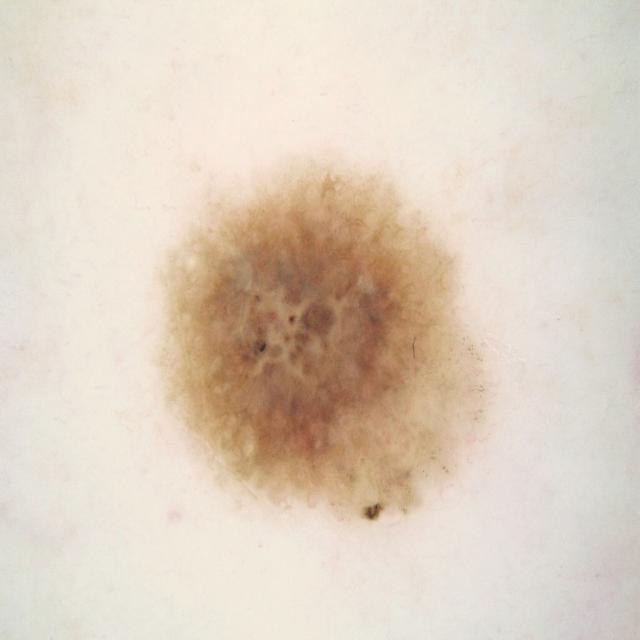Skin-Cancer Melanoma: (117, 60, 602, 603)
